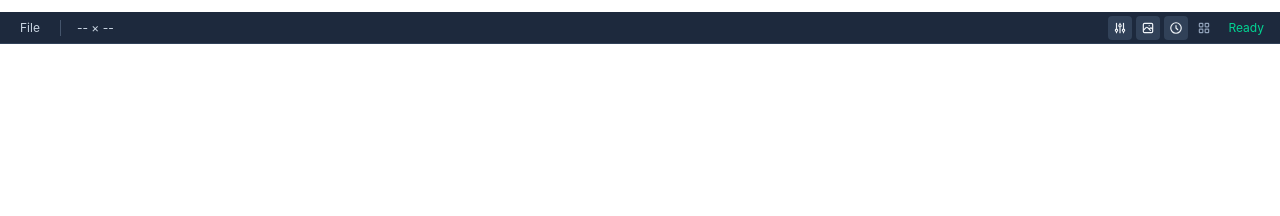
BottomPanel › closes the File menu after choosing an item
The image size is (1280, 216).
What coordinates should you click on to do the following:
click the button "File"
I would click on:
 (30, 28)
Its box is [16,18,44,38].
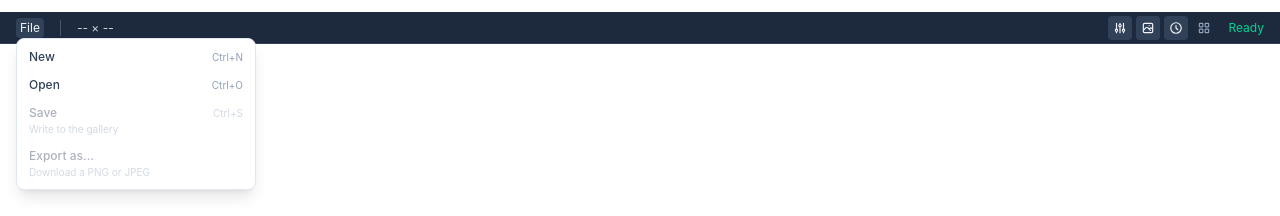
What coordinates should you click on to do the following:
click the text "New"
I would click on:
 (42, 56)
Its box is [29,48,55,64].
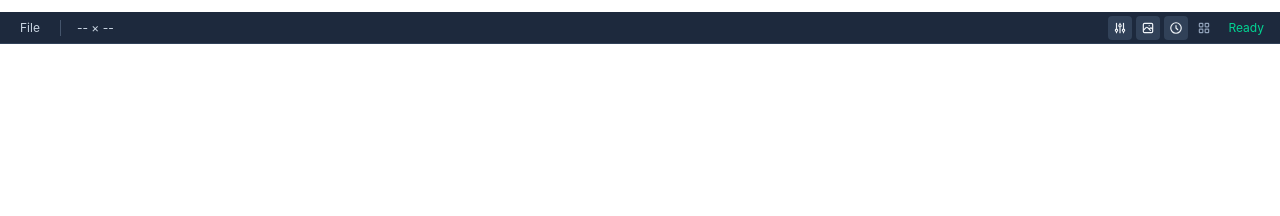
Check: the menu item "Export as..." is gone
